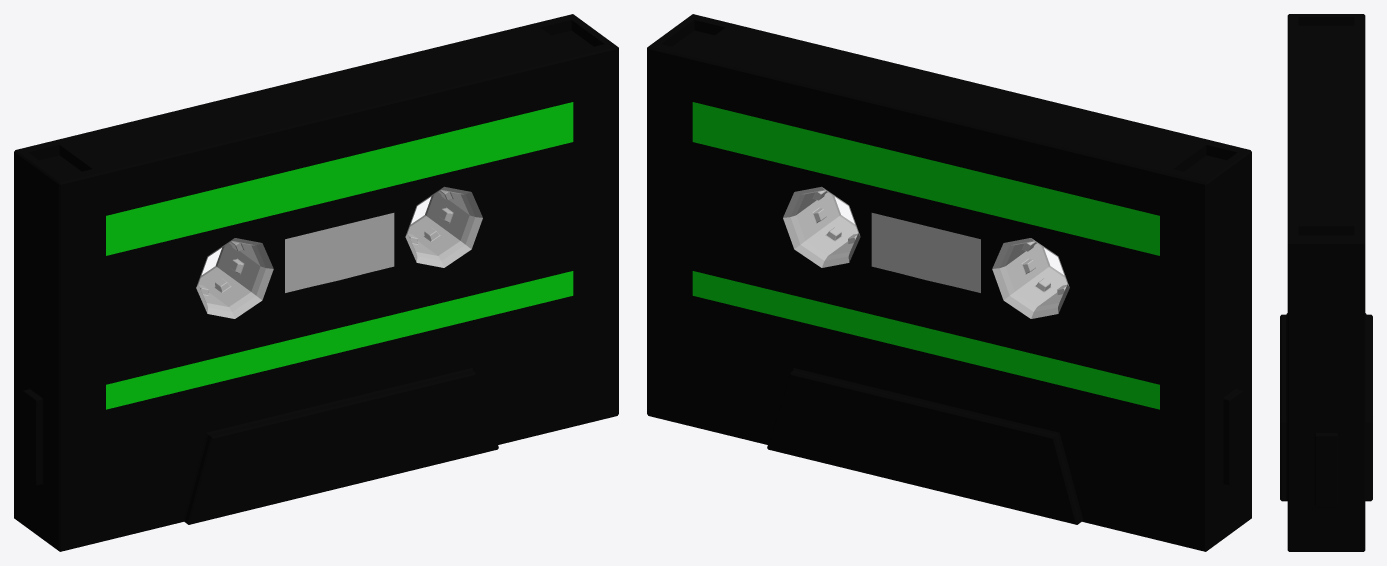
File: Cassette.fbx
3 views of the same model, side by side, from view 1: azimuth 30°, elevation 25°; view 2: azimuth 150°, elevation 25°; view 3: azimuth 270°, elevation 25° (orthographic). The views are drawn at different scales.
Parts seen in each view (by area): view 1: Cassette; view 2: Cassette; view 3: Cassette.
Part boxes in pixels (x1=…): Cassette: x1=14, y1=14, x2=618, y2=551; Cassette: x1=647, y1=14, x2=1251, y2=551; Cassette: x1=1280, y1=14, x2=1372, y2=551.
Bounding box in the file's own units: 102 × 17.08 × 63.
